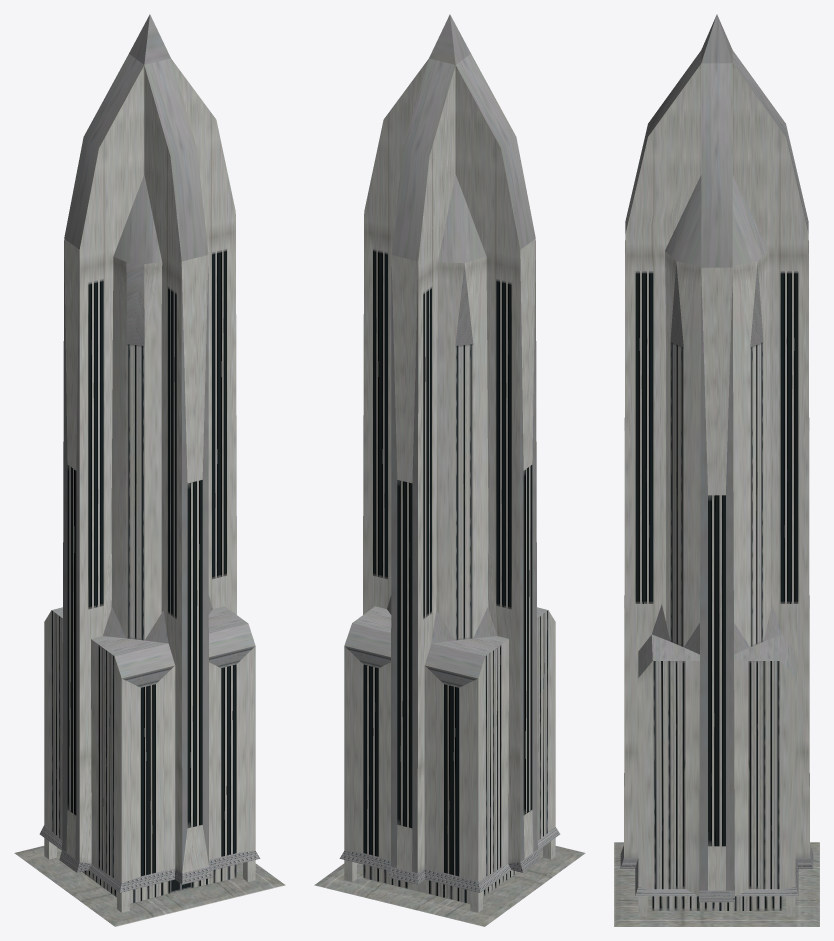
File: thm_corl_skyskraper_s01_r0_mesh_l3.fbx
3 renders of one model, left to right at view 1: azimuth 30°, elevation 25°; view 2: azimuth 150°, elevation 25°; view 3: azimuth 270°, elevation 25°, orthographic.
Visible parts, largest first — view 1: mesh_node; view 2: mesh_node; view 3: mesh_node.
Part boxes in pixels (x1,y1,x2,y2): mesh_node: (14,14,285,926); mesh_node: (314,14,585,926); mesh_node: (614,14,819,926).
Size of the model in its own units: 43.96 by 210 by 45.09.
1 material, 1 textured.
